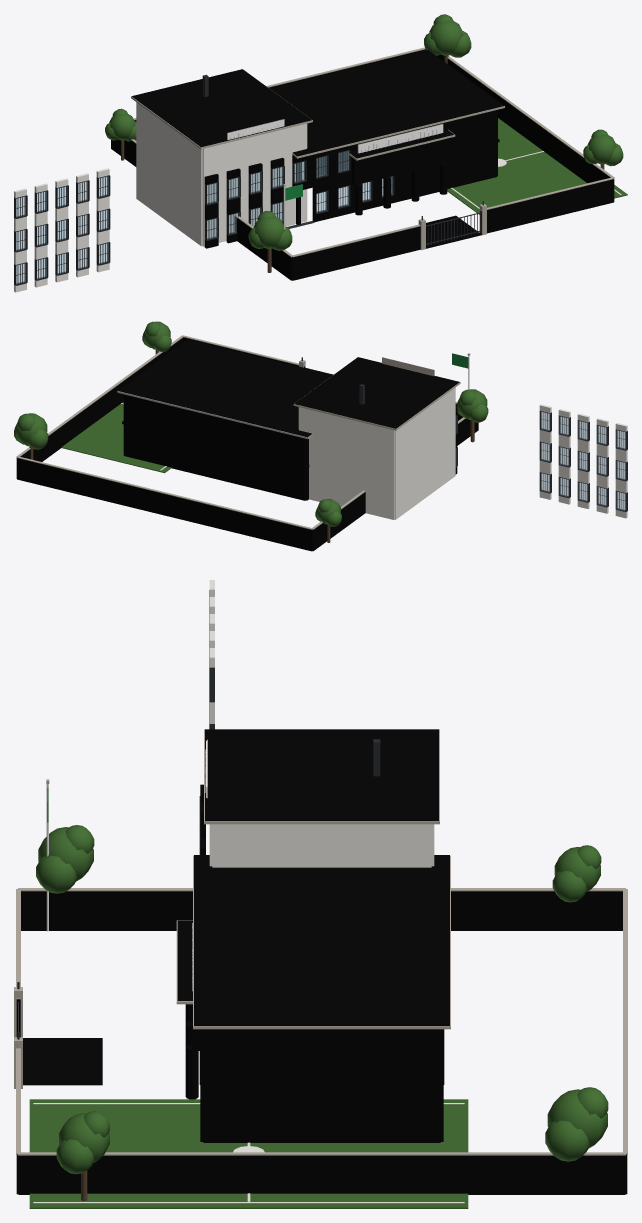
The model's file is university.glb.
The picture shows the model from 3 angles, top to bottom: view 1: azimuth 30°, elevation 25°; view 2: azimuth 150°, elevation 25°; view 3: azimuth 270°, elevation 25°; orthographic projection. The views are drawn at different scales.
Visible parts, largest first — view 1: object 292, object 581, libL (×3), pitch, object 610, object 611, object 507, object 21, object 609, porticoRoof, object 423, object 339 (+13 smaller); view 2: hallBack (×2), object 292, libBack (×3), object 607, object 581, libL (×3), pitch, object 609, object 608, object 612, parapet1, object 614 (+4 smaller); view 3: object 292, hallR (×2), object 609, object 581, pitch, object 608, libR, slab, object 614, object 647, parapet1, object 648 (+11 smaller).
Part boxes in pixels (<box>): object 292: <box>269,50,503,156</box>; object 581: <box>131,69,311,147</box>; libL (×3): <box>136,102,202,246</box>; pitch: <box>447,118,627,214</box>; object 610: <box>292,226,420,280</box>; object 611: <box>480,179,613,233</box>; object 507: <box>202,123,306,179</box>; object 21: <box>394,143,497,202</box>; object 609: <box>436,54,614,201</box>; porticoRoof: <box>352,138,448,185</box>; object 423: <box>202,158,303,213</box>; object 339: <box>202,189,306,246</box>; hallBack (×2): <box>124,394,305,500</box>; object 292: <box>118,339,332,437</box>; libBack (×3): <box>299,407,394,519</box>; object 607: <box>17,458,312,551</box>; object 581: <box>294,357,459,428</box>; libL (×3): <box>394,387,455,519</box>; pitch: <box>61,402,171,473</box>; object 609: <box>16,338,183,478</box>; object 608: <box>312,418,478,551</box>; object 612: <box>16,456,312,529</box>; parapet1: <box>122,421,309,468</box>; object 614: <box>16,335,183,457</box>; object 292: <box>194,855,449,1025</box>; hallR (×2): <box>203,1029,440,1142</box>; object 609: <box>18,1155,625,1194</box>; object 581: <box>205,729,438,820</box>; pitch: <box>29,1099,468,1208</box>; object 608: <box>21,891,622,930</box>; libR: <box>212,824,431,867</box>; slab: <box>23,1038,102,1085</box>; object 614: <box>18,1152,625,1155</box>; object 647: <box>547,1089,607,1148</box>; parapet1: <box>199,1029,444,1084</box>; object 648: <box>545,1120,589,1161</box>.
Size of what is drawn, in the model's own units: 60.38 by 12.44 by 33.59.
